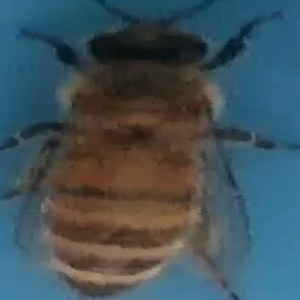bee: (15, 1, 293, 300)
